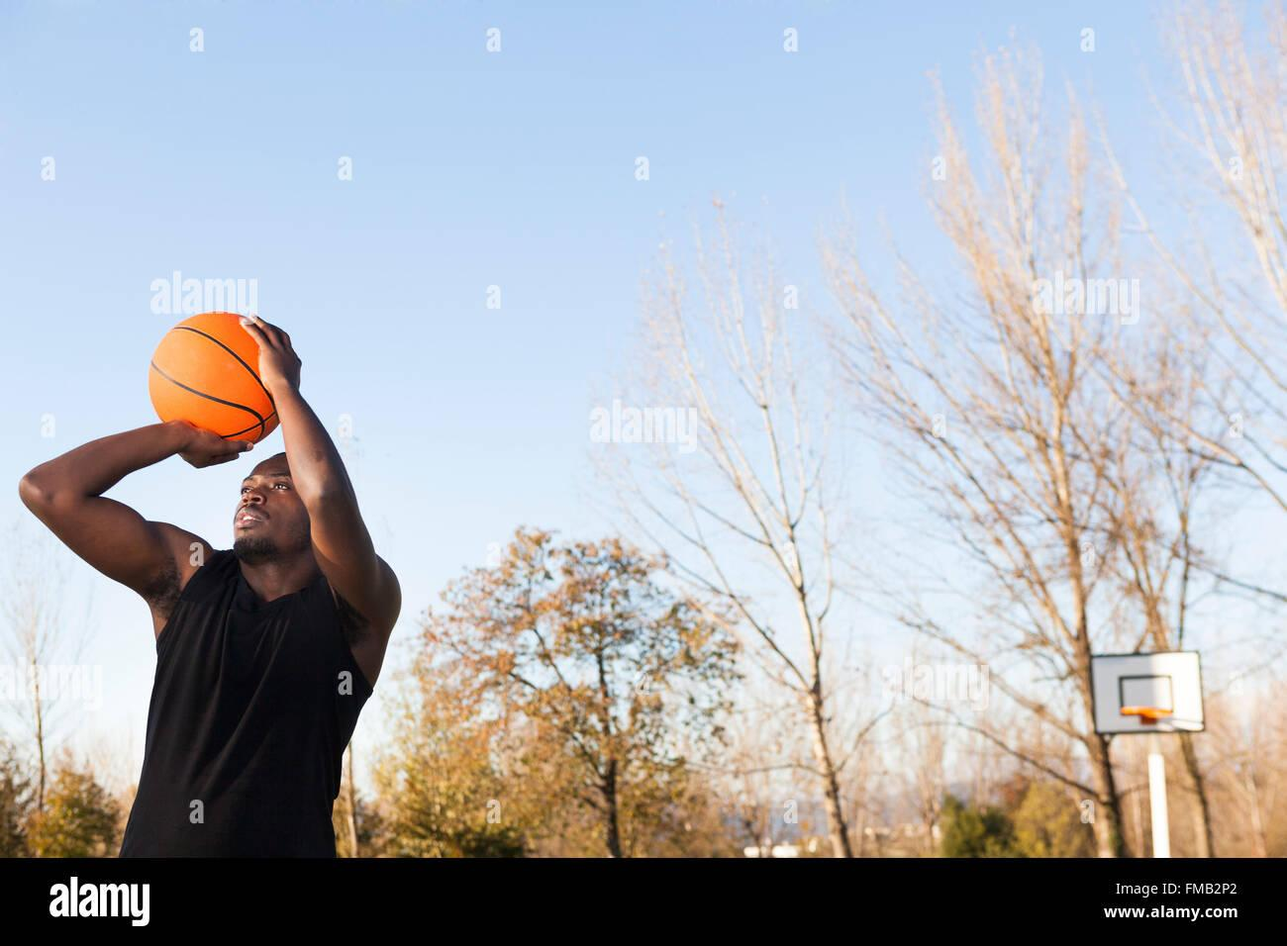basketball: (147, 312, 297, 461)
